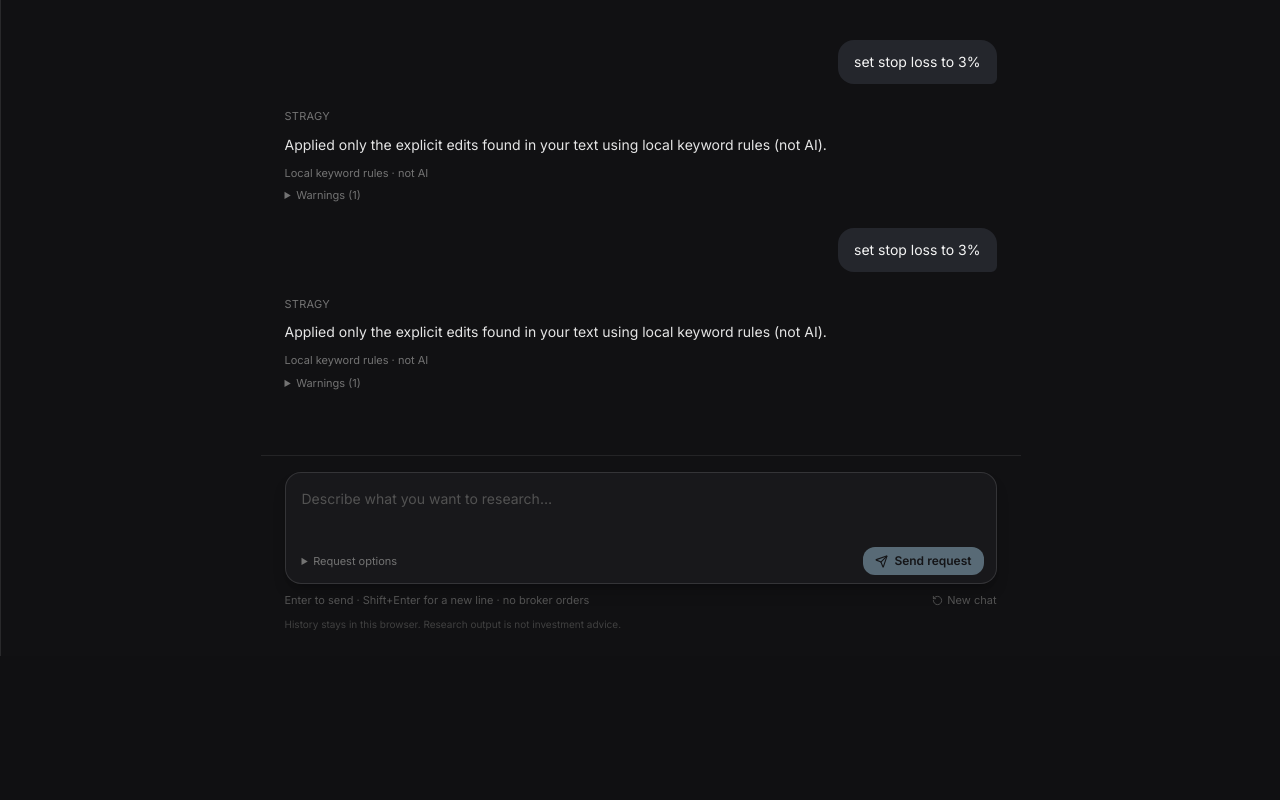
Scenario: proposal dock review and explicit actions › reports a rejected apply without pretending it succeeded
The width and height of the screenshot is (1280, 800).
Type "set stop loss to 3%" into the text box named "Research request" at (640, 511), box [298,481,984,541]
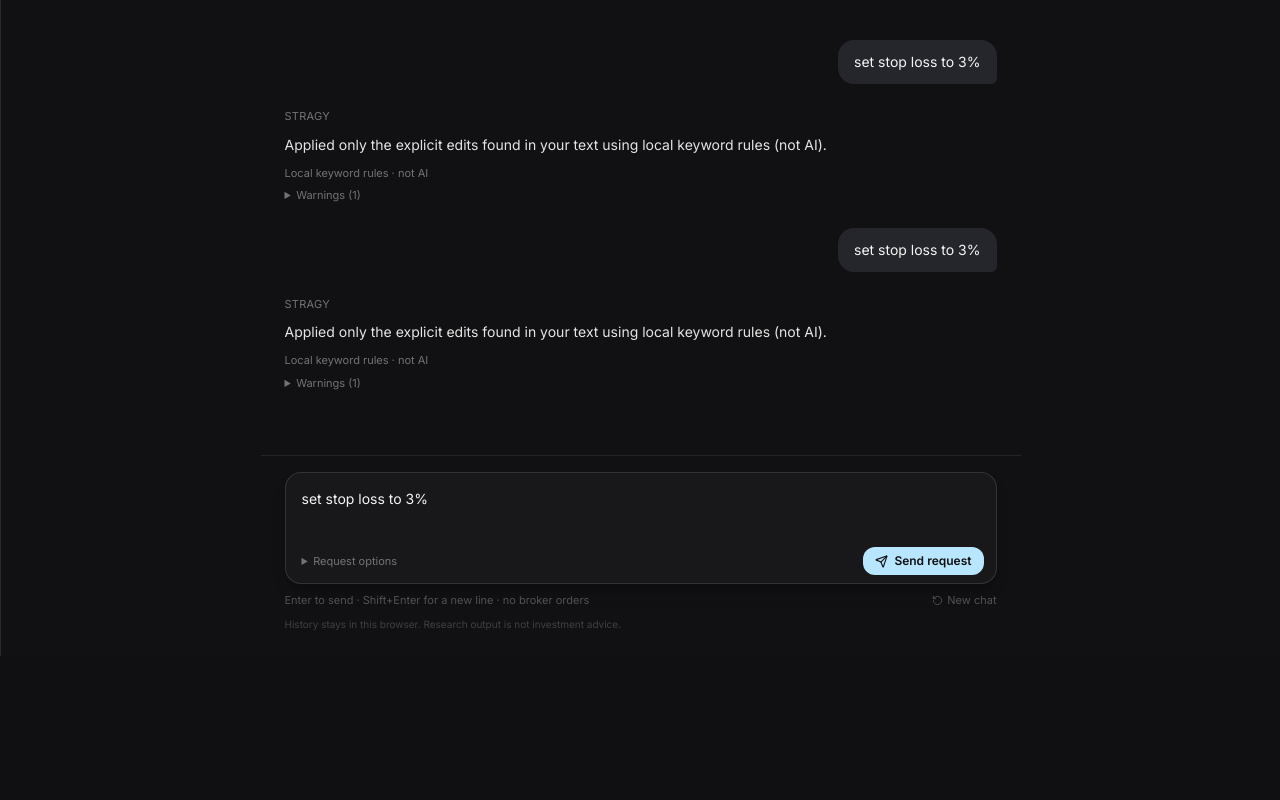
Click the button "Send request" at (923, 561), box [863,547,984,575]
(page scrolled)
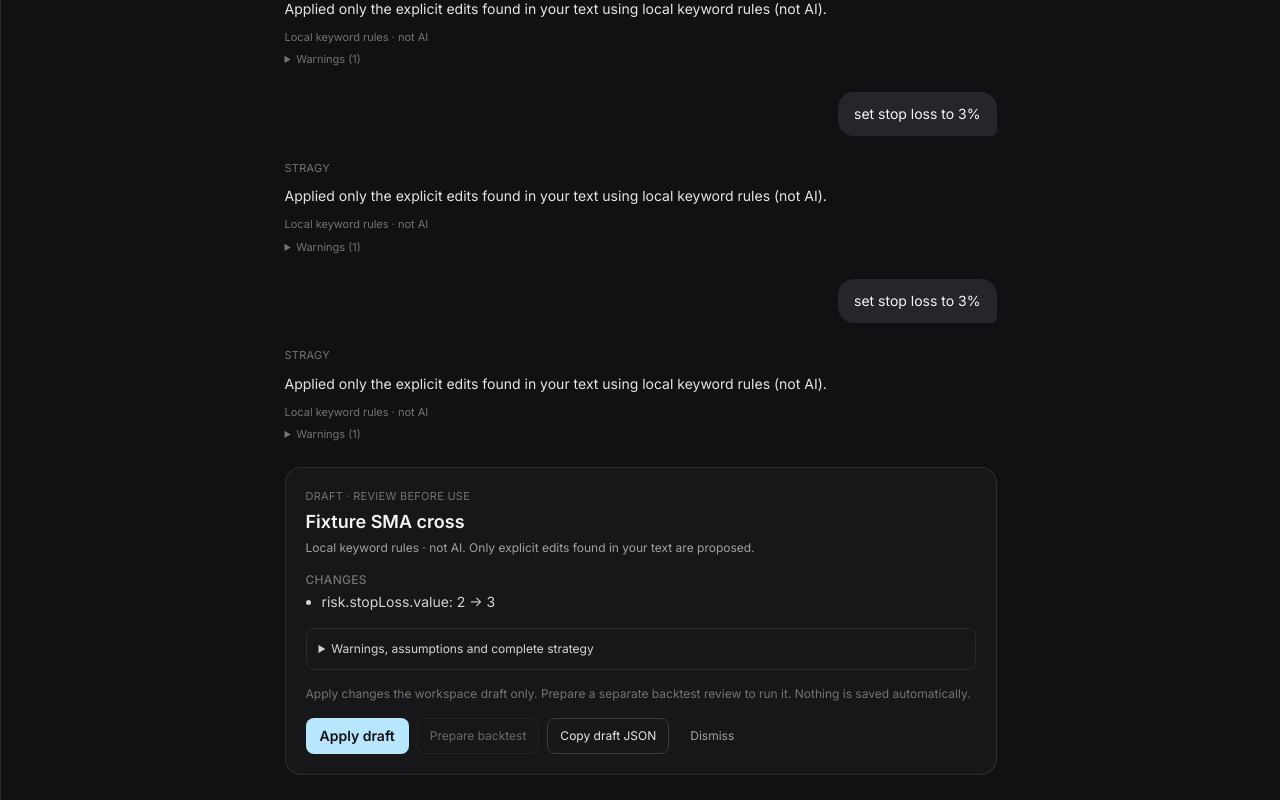
Check: the element named "Draft proposal" is shown, box [284,466,996,775]
Click the button "Apply draft" at (357, 736), box [306,718,409,754]
(page scrolled)
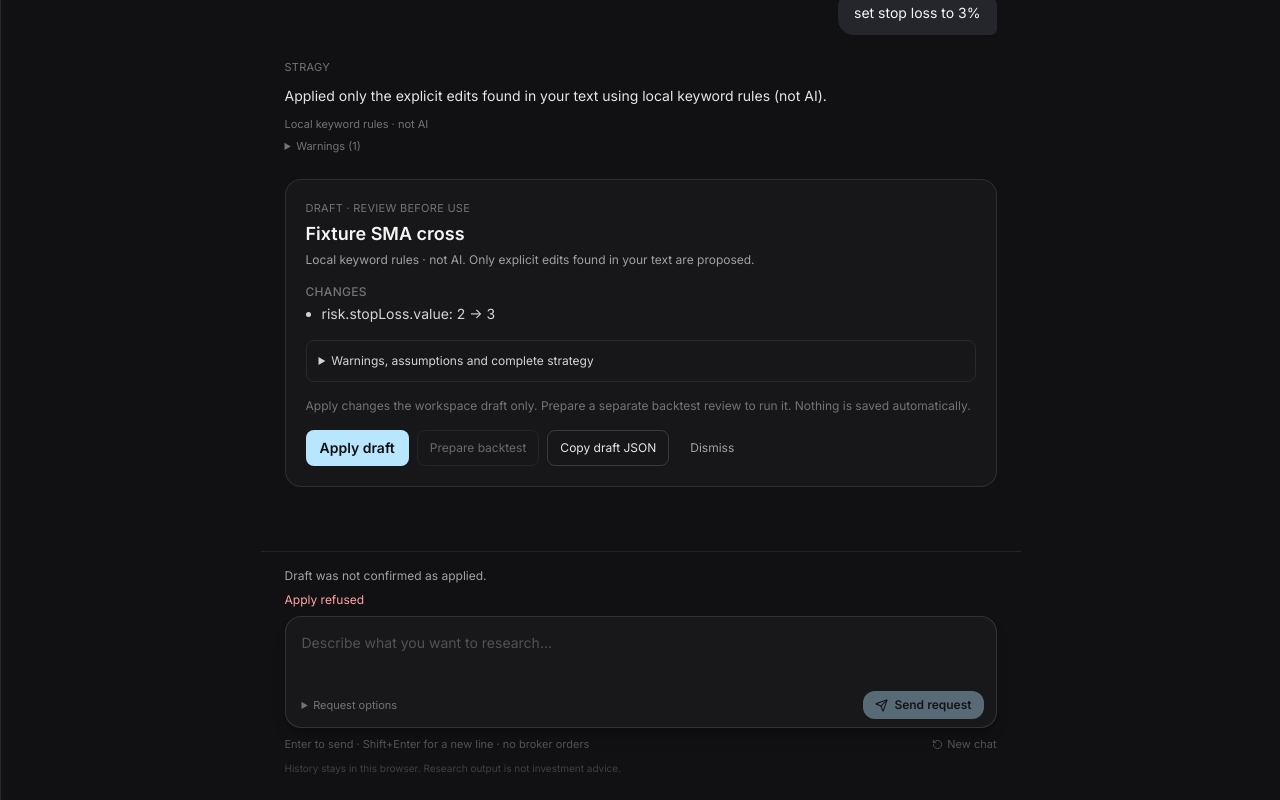
Check: the message "Apply refused" is shown, box [284,592,364,607]
